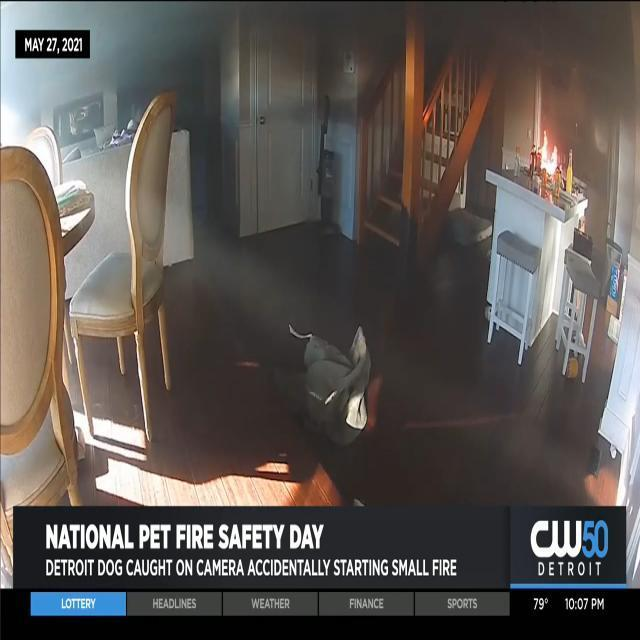Fire: (534, 126, 563, 188)
